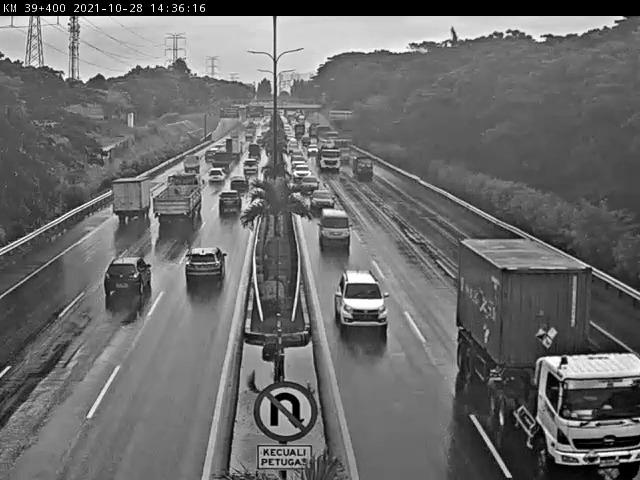big truck: (458, 255, 640, 480), (152, 172, 205, 224)
car: (333, 268, 392, 334), (100, 256, 154, 301), (182, 246, 228, 288), (317, 207, 352, 252), (218, 190, 242, 216), (309, 186, 334, 210), (228, 175, 250, 195), (206, 166, 227, 186), (292, 162, 311, 182), (300, 174, 320, 193)
small truck: (109, 176, 152, 225)
